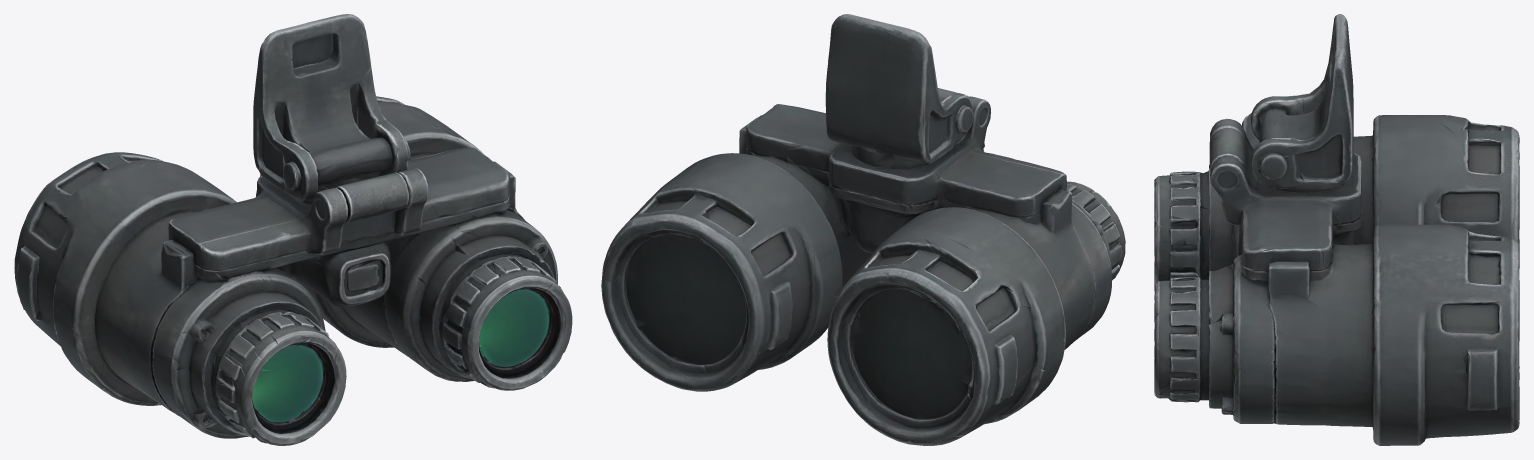
File: objet-lunette.glb
3 views of the same model, side by side, from view 1: azimuth 30°, elevation 25°; view 2: azimuth 150°, elevation 25°; view 3: azimuth 270°, elevation 25° (orthographic). The views are drawn at different scales.
Bounding box in the file's own units: 0.9799 × 0.7885 × 0.7483.
Materials: 1 (1 with a texture image).
